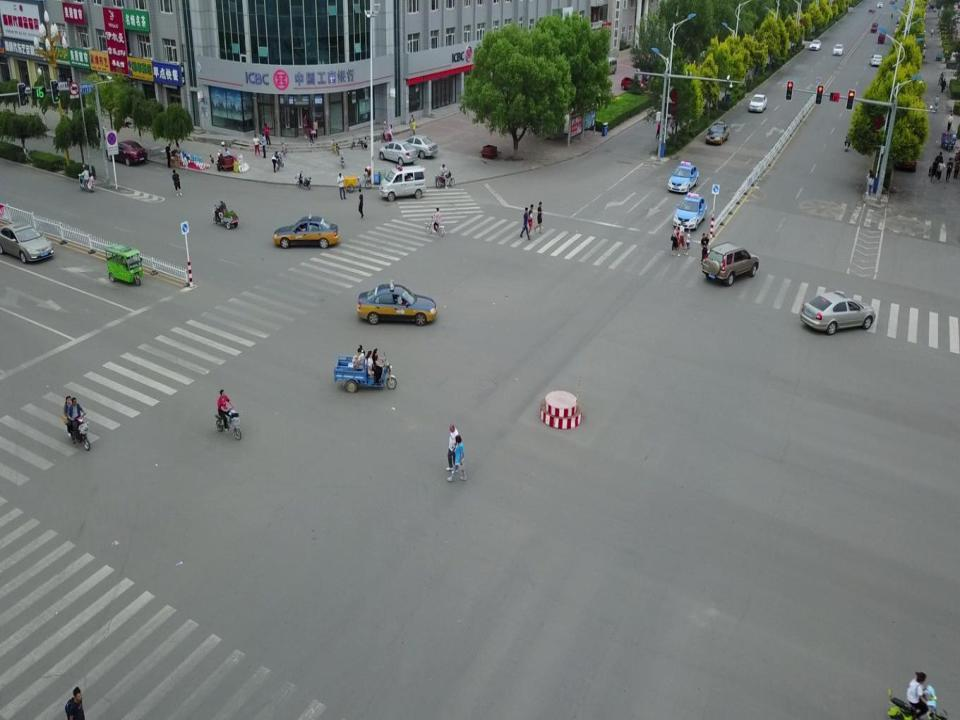car: (356, 280, 437, 326), (800, 290, 876, 335), (701, 241, 759, 286), (272, 214, 340, 250), (0, 221, 54, 264), (672, 192, 708, 231), (104, 139, 148, 167), (667, 160, 700, 195), (378, 139, 418, 167), (399, 135, 438, 159), (705, 120, 730, 145), (620, 75, 646, 93), (748, 93, 768, 113), (869, 54, 883, 68), (808, 38, 822, 50), (832, 44, 844, 56), (876, 0, 884, 9)
van: (378, 165, 426, 201), (598, 56, 618, 75)
